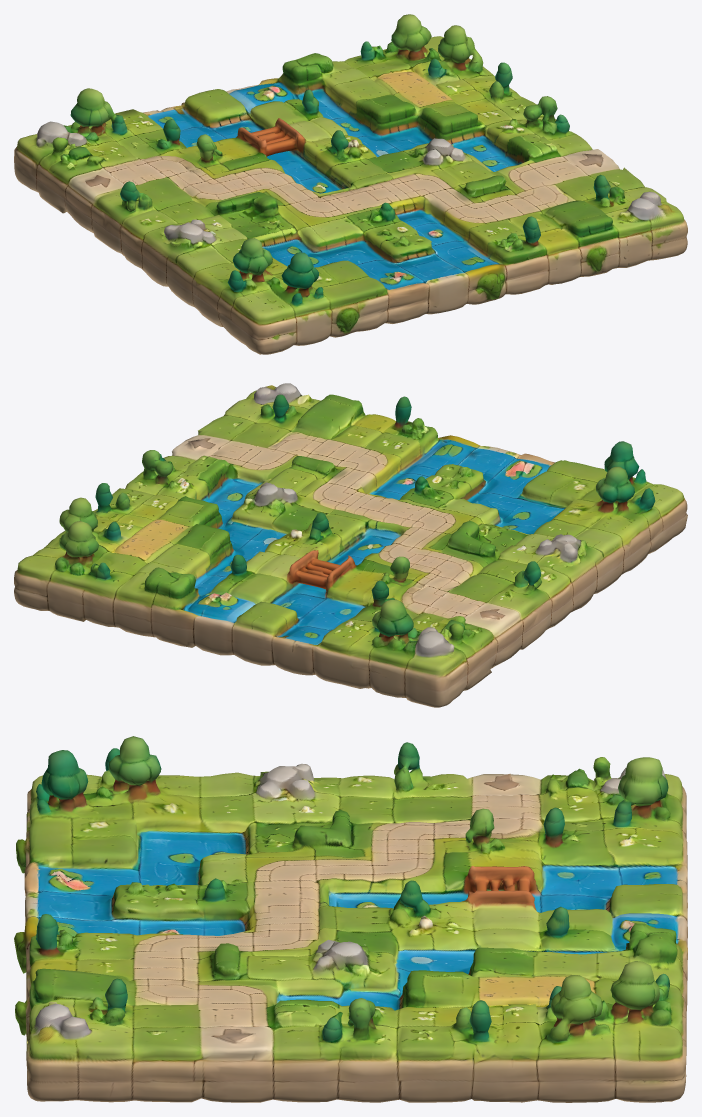
The model's file is mapv0_pbr.glb.
The picture shows the model from 3 angles, top to bottom: view 1: azimuth 30°, elevation 25°; view 2: azimuth 150°, elevation 25°; view 3: azimuth 270°, elevation 25°; orthographic projection. The views are drawn at different scales.
Visible parts, largest first — view 1: model; view 2: model; view 3: model.
Part boxes in pixels (x1,y1,x2,y2): model: [14, 14, 687, 354]; model: [14, 383, 687, 707]; model: [14, 736, 687, 1102].
Size of the model in its own units: 1.87 by 0.3422 by 1.9.
Materials: 1 (1 with a texture image).
